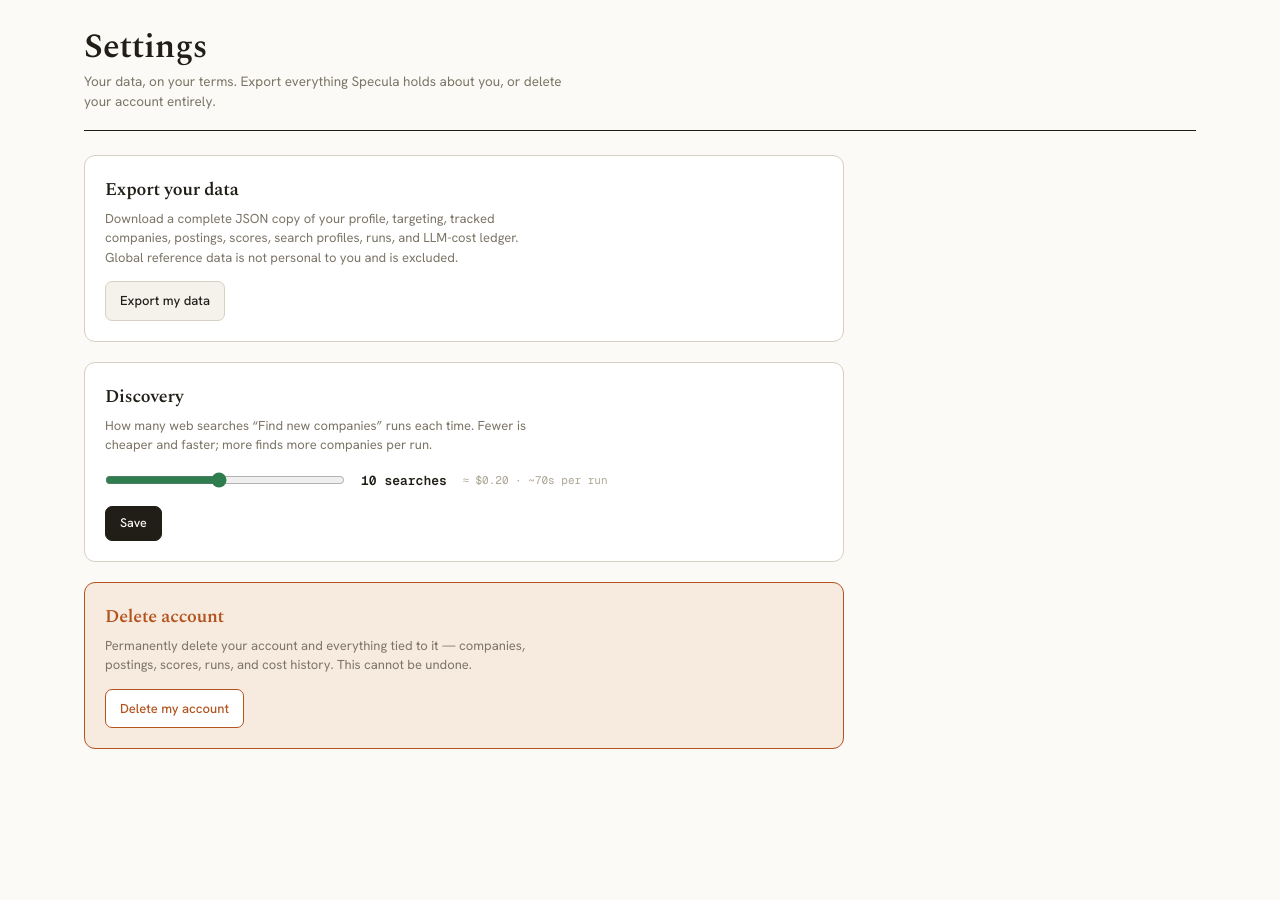
Test: SettingsView › surfaces an error and does not sign out when deletion fails
Click the button "Delete my account" at (174, 709), box [105,689,244,728]
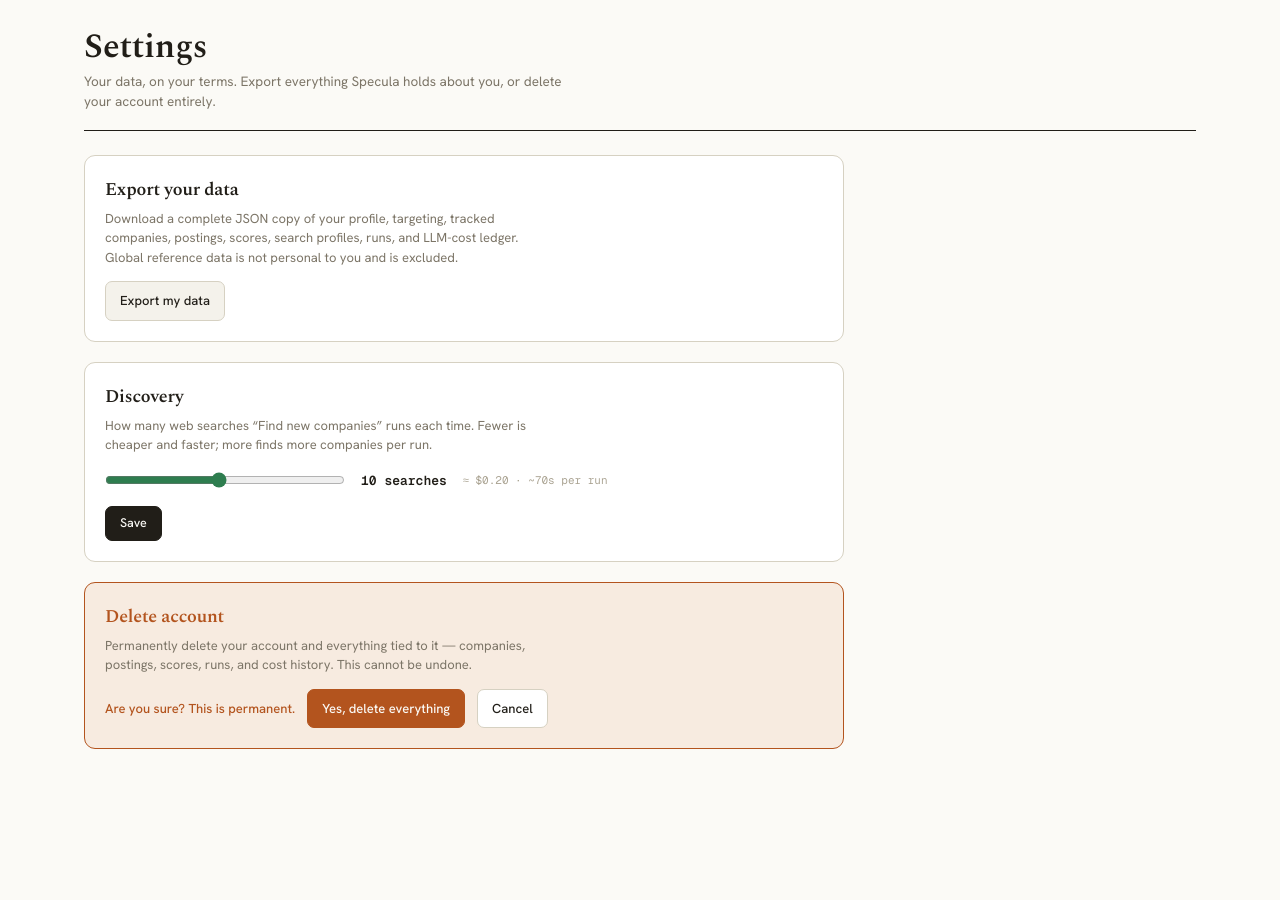
Click the button "Yes, delete everything" at (386, 709), box [307,689,465,728]
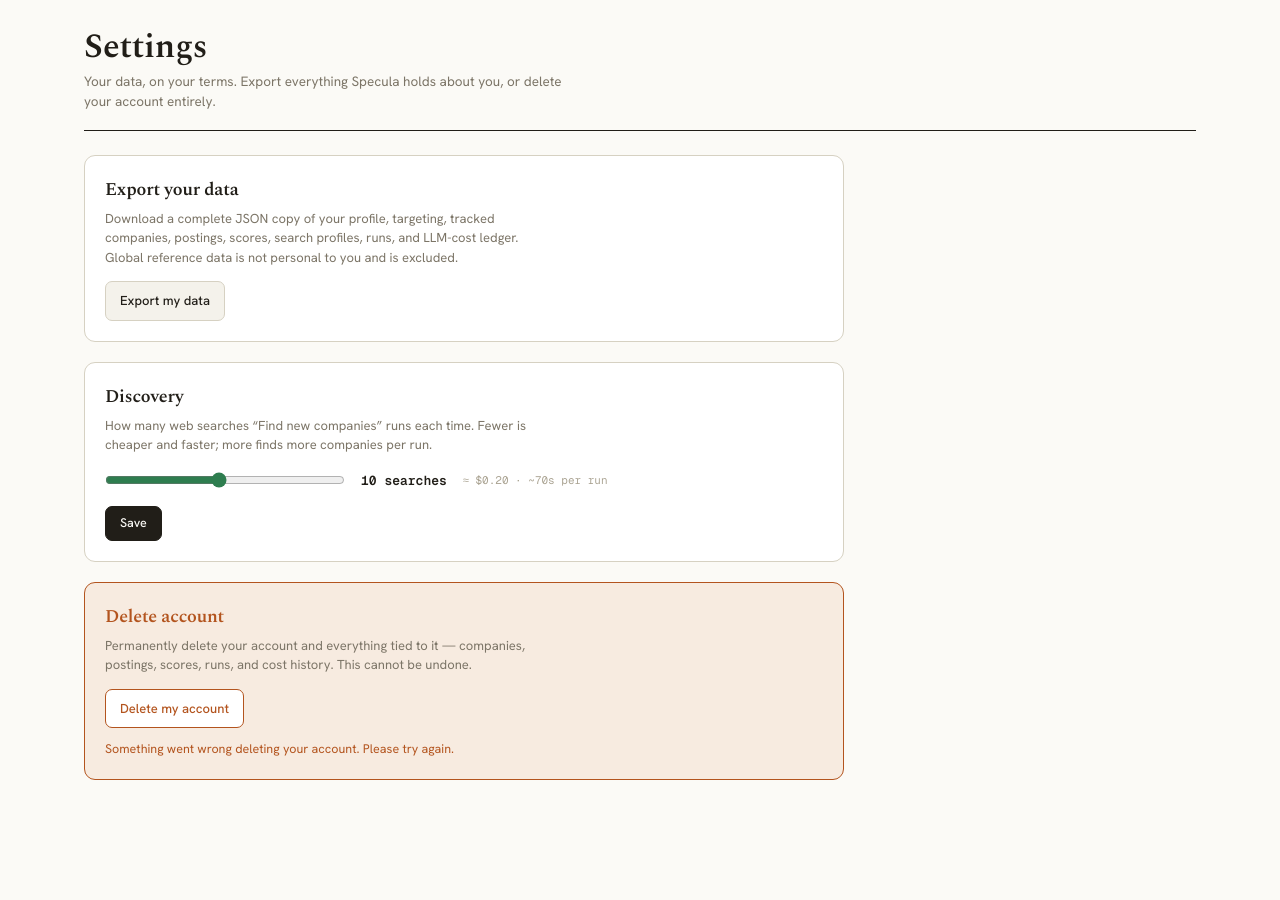
Now the text "Something went wrong deleting your account" is shown, box [105,740,454,757]
